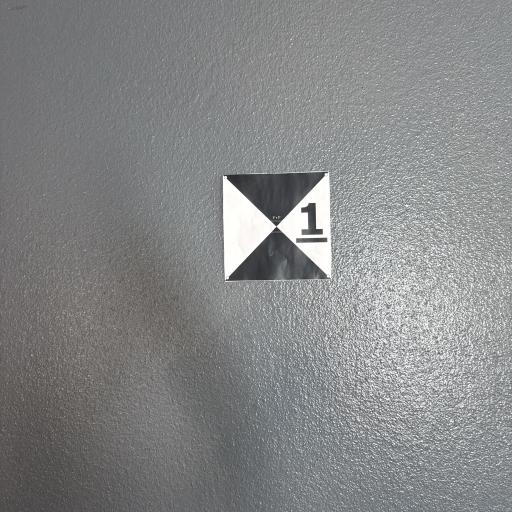target1: (225, 173, 331, 281)
